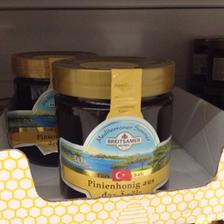Honig: (47, 54, 180, 218)
